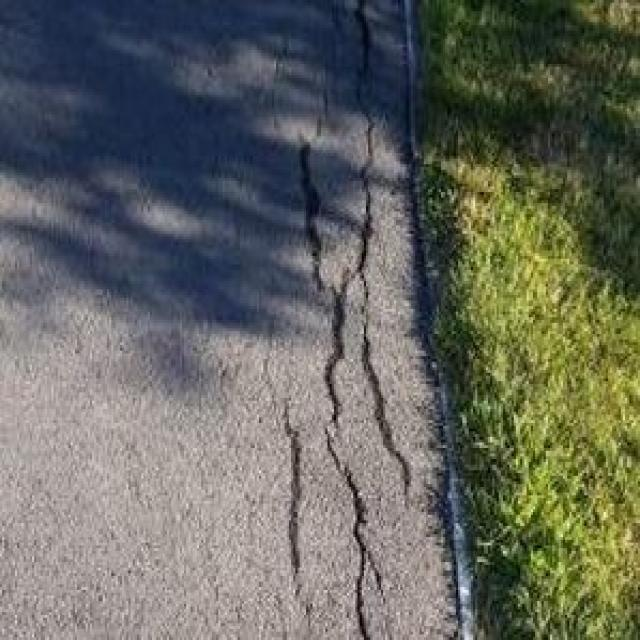Pothole: (216, 5, 640, 640)
